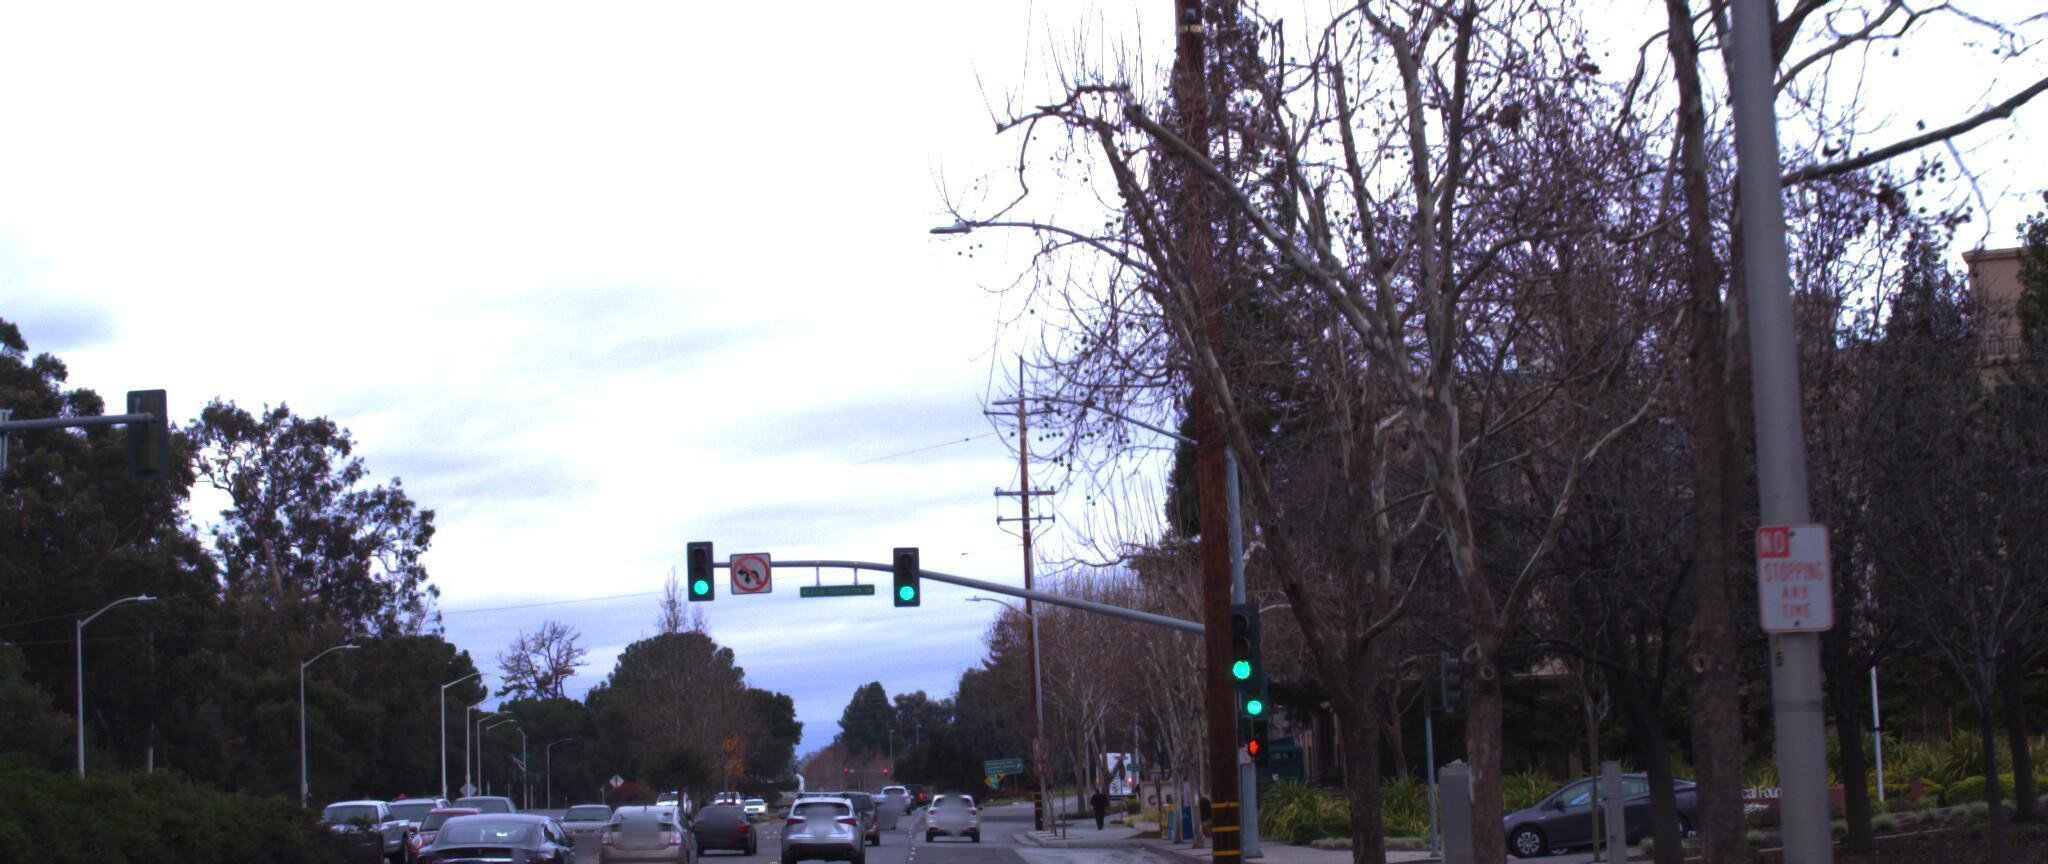car: (406, 786, 616, 864), (603, 779, 718, 861), (797, 767, 886, 850), (707, 784, 781, 837)
